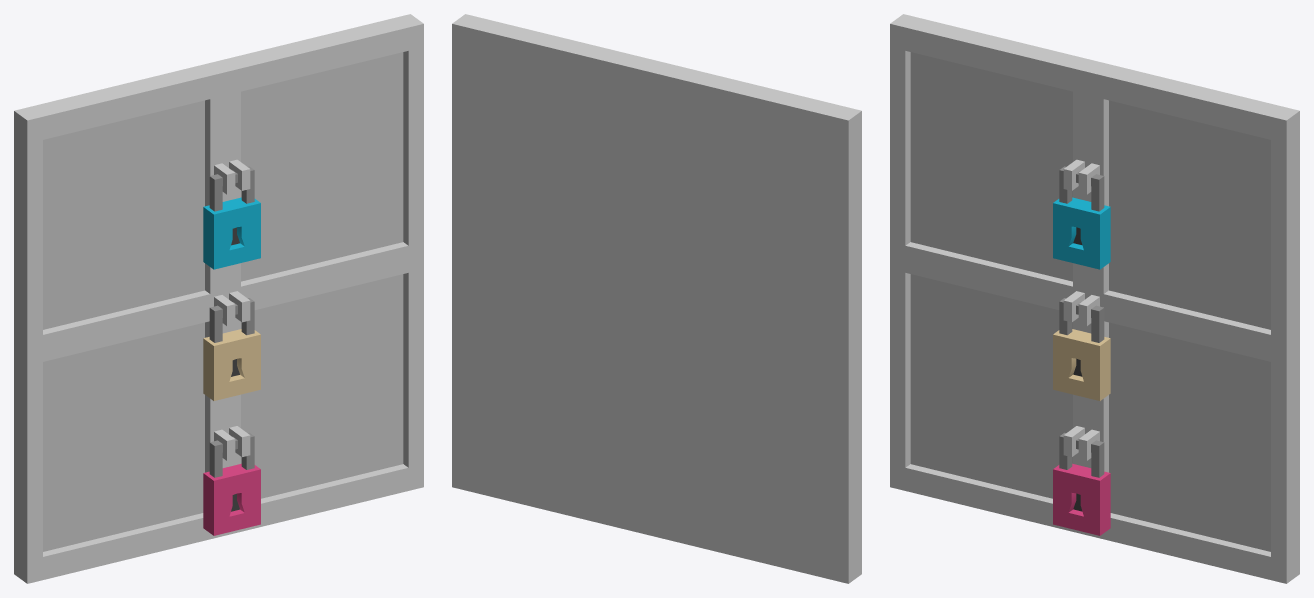
The model's file is DoorPlaceHolder.fbx.
The picture shows the model from 3 angles, left to right: view 1: azimuth 30°, elevation 25°; view 2: azimuth 150°, elevation 25°; view 3: azimuth 330°, elevation 25°; orthographic projection.
Parts seen in each view (by area): view 1: RDoorMesh; view 2: RDoorMesh; view 3: RDoorMesh.
Boxes of the visible parts, x1,y1,x2,y2 form: RDoorMesh: (14, 14, 423, 583); RDoorMesh: (452, 14, 861, 583); RDoorMesh: (890, 14, 1299, 583).
Size of the model in its own units: 2.54 by 2.84 by 0.292.
